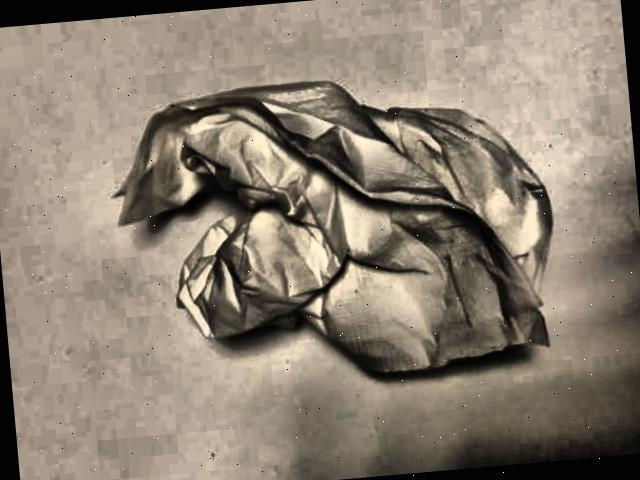Paper: (100, 45, 565, 411)
